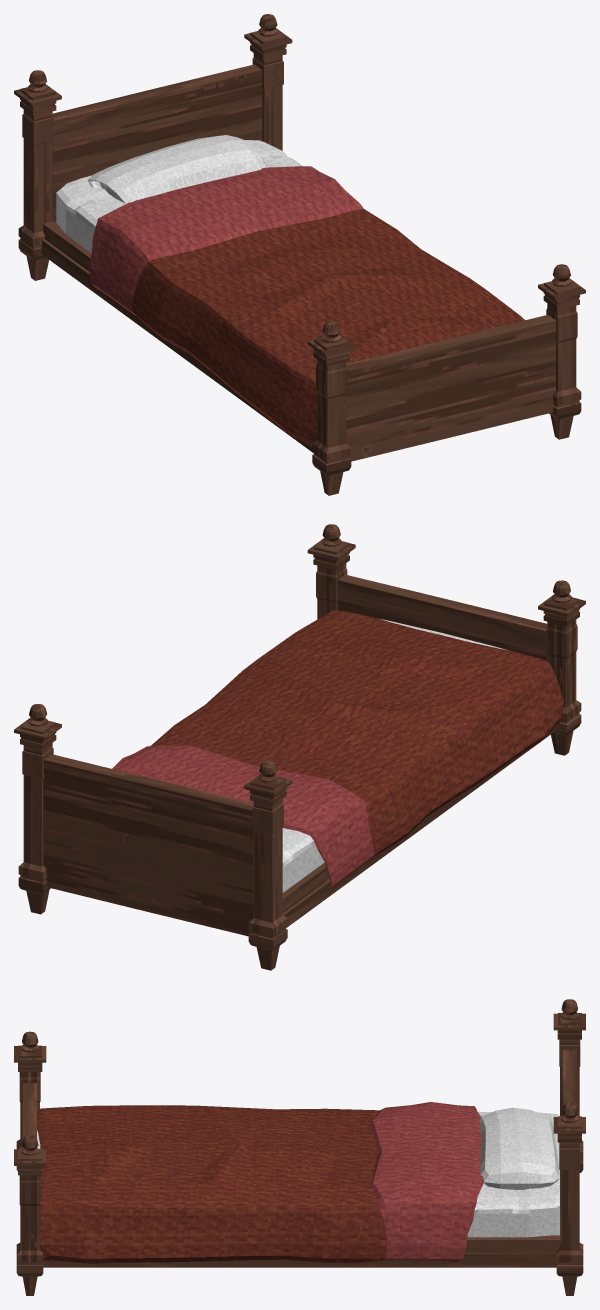
Rendered from twin_bed.fbx.
The picture shows the model from 3 angles, top to bottom: view 1: azimuth 30°, elevation 25°; view 2: azimuth 150°, elevation 25°; view 3: azimuth 270°, elevation 25°; orthographic projection. The views are drawn at different scales.
Visible parts, largest first — view 1: Comforter, BedFrame, Pillow, Mattress; view 2: Comforter, BedFrame, Mattress; view 3: Comforter, BedFrame, Pillow, Mattress.
Part boxes in pixels (<box>): Comforter: <box>89,166,524,446</box>; BedFrame: <box>14,14,585,495</box>; Pillow: <box>87,135,267,203</box>; Mattress: <box>56,140,302,252</box>; Comforter: <box>112,610,563,887</box>; BedFrame: <box>14,524,585,970</box>; Mattress: <box>282,618,507,892</box>; Comforter: <box>37,1102,483,1263</box>; BedFrame: <box>14,999,585,1295</box>; Pillow: <box>480,1107,559,1189</box>; Mattress: <box>37,1111,559,1237</box>.
Size of the model in its own units: 140 by 106 by 289.
